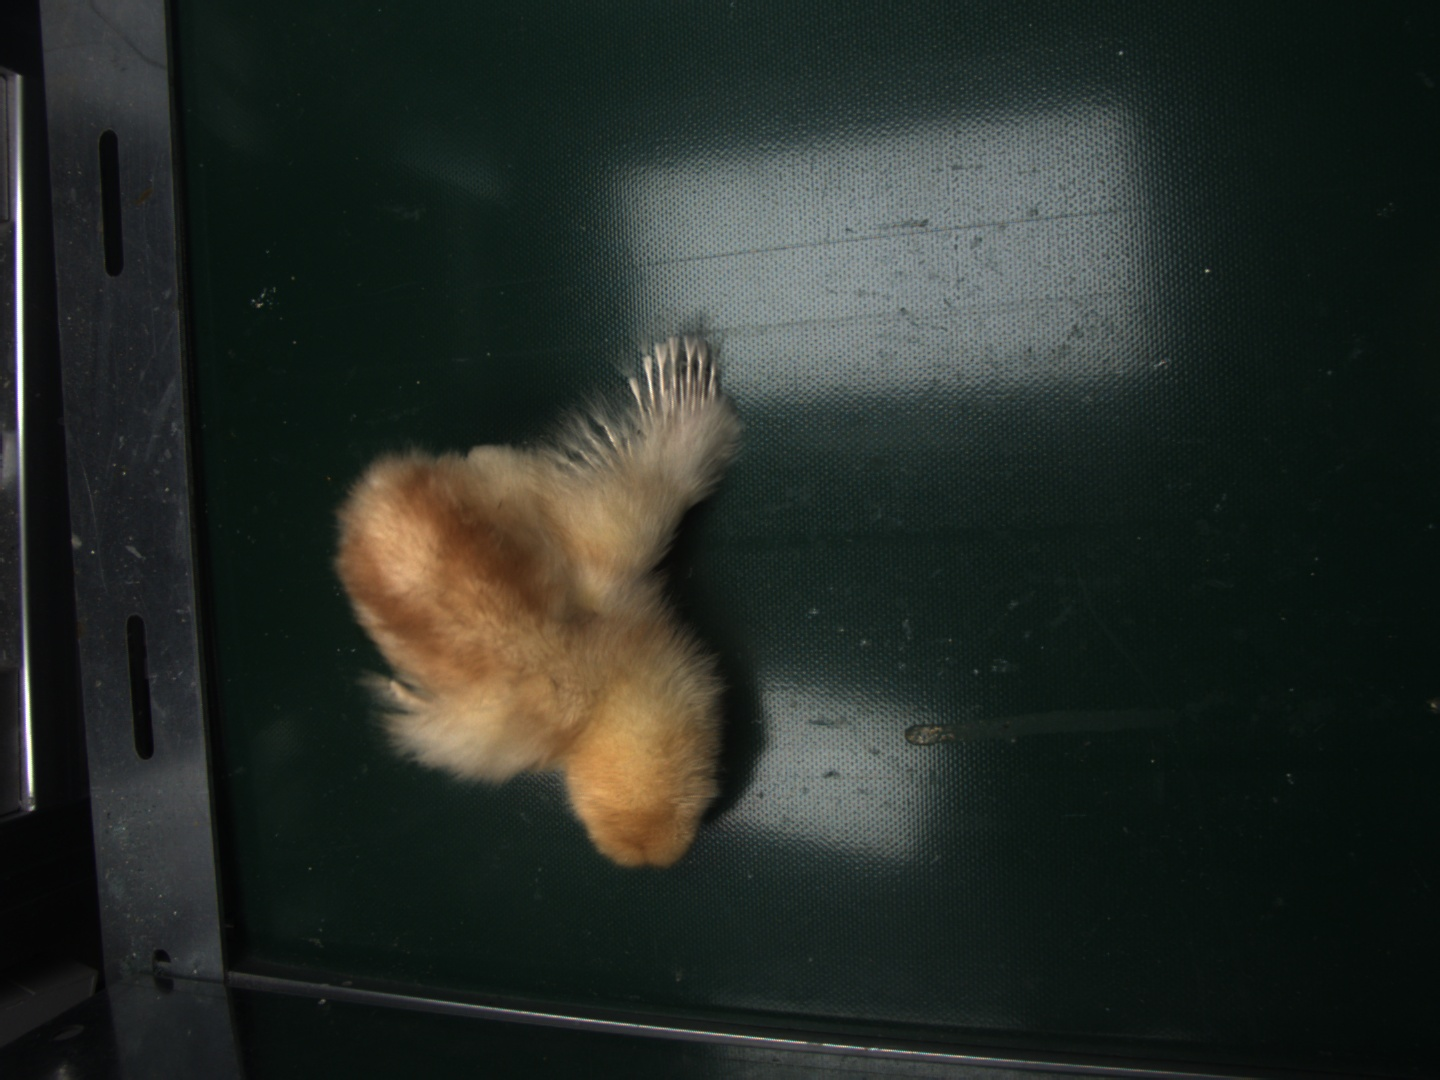female: (628, 336, 718, 413)
